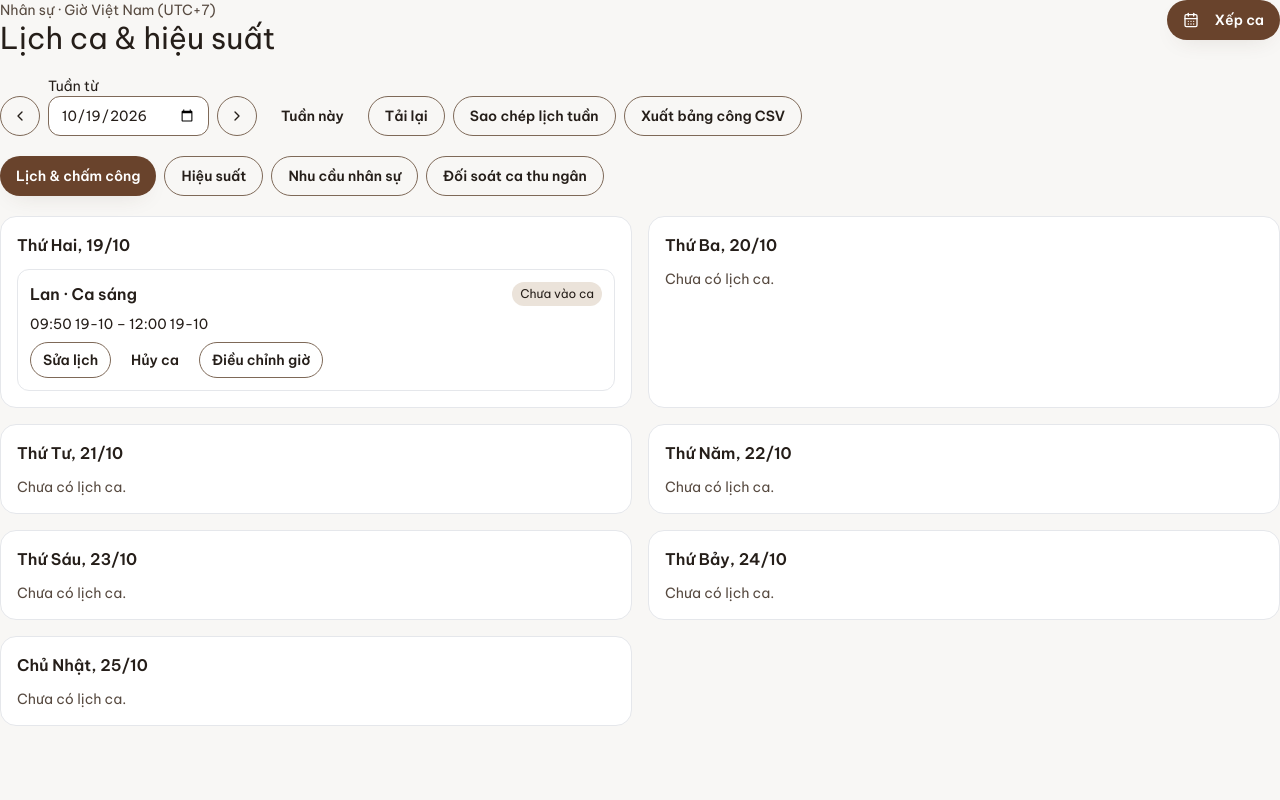
it: workforce UI › opens a draft from historical demand and saves only after administrator review
Later steps or results of the test are not shown.
Expected: the heading "Lan · Ca sáng" is shown, [30,282,137,306]
Click the button "Nhu cầu nhân sự" at (345, 176), box [271,156,418,196]
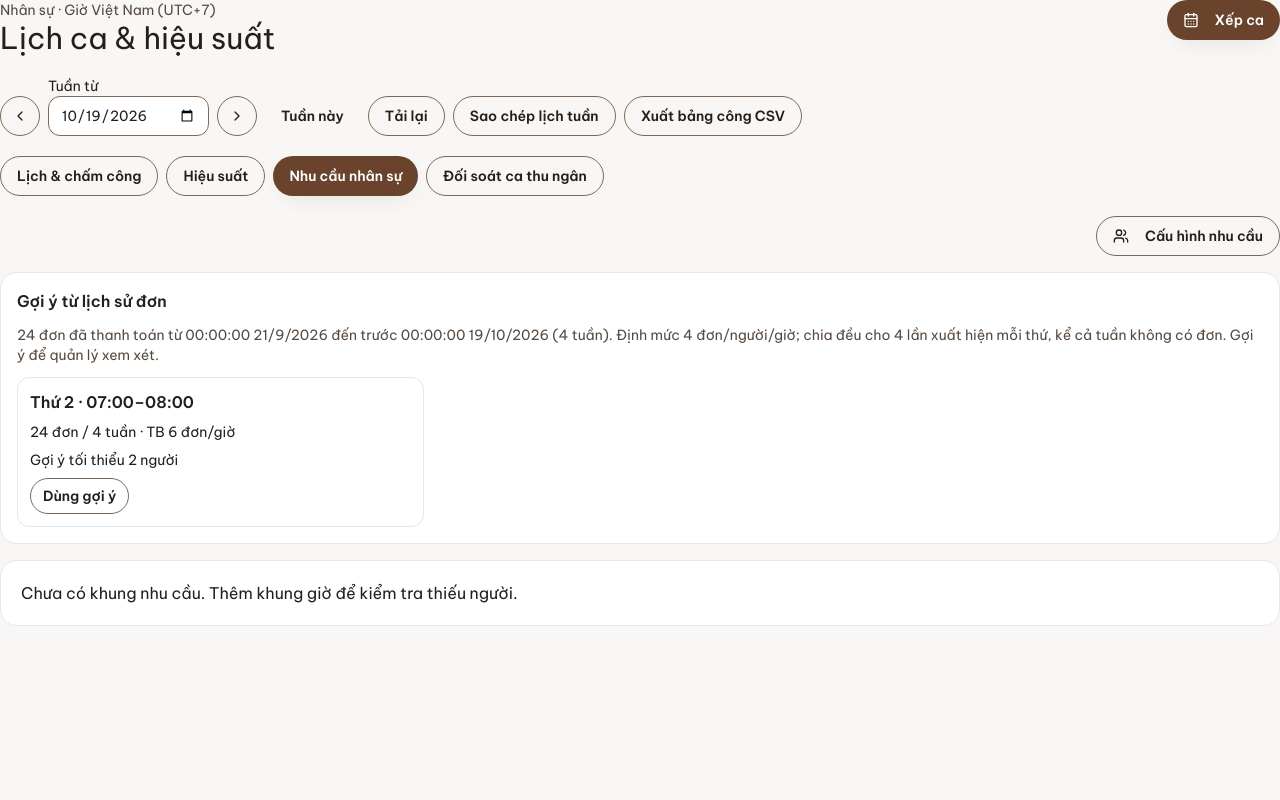
Expected: the text "Gợi ý tối thiểu 2 người" is shown, [30,451,178,469]
Click the button with aria-label "Dùng gợi ý Thứ 2 07:00" at (80, 496), box [30,478,129,514]
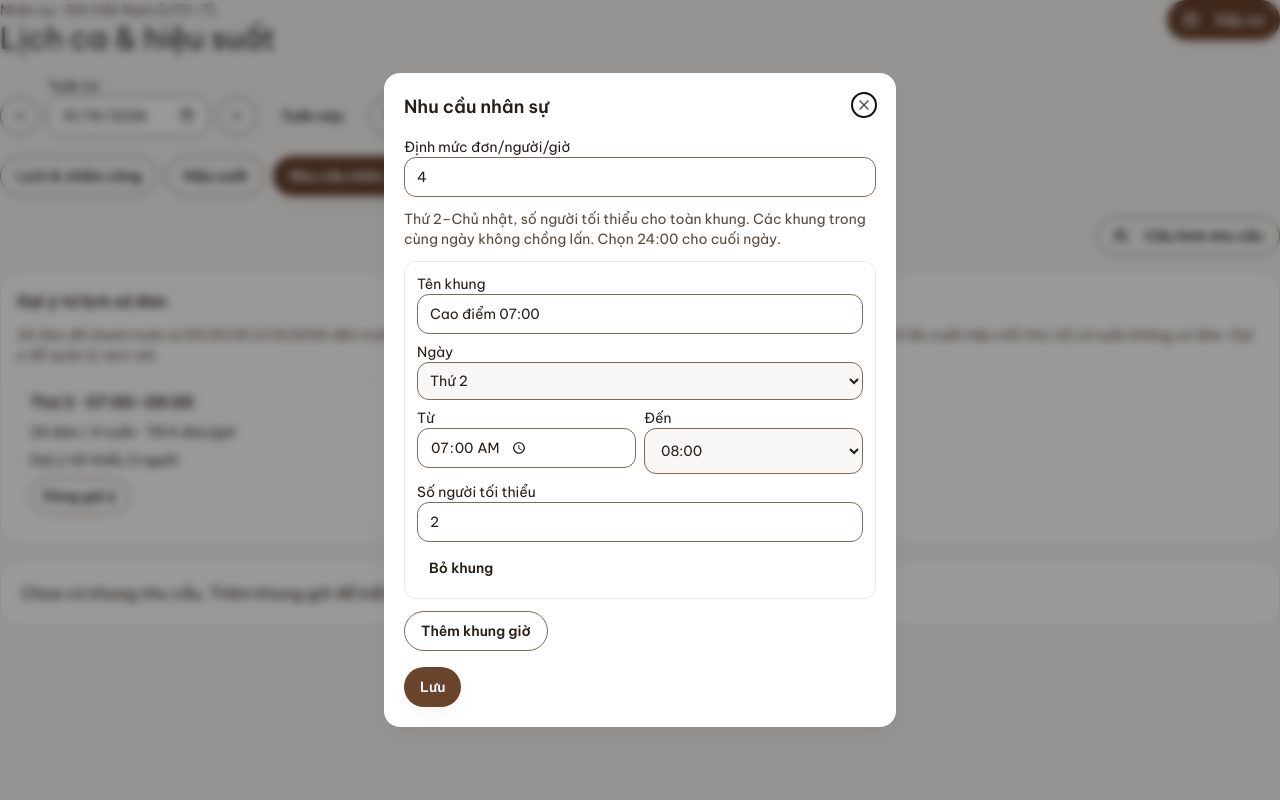
Expected: the number field labelled "Số người tối thiểu" holds "2", [417,502,863,542]
